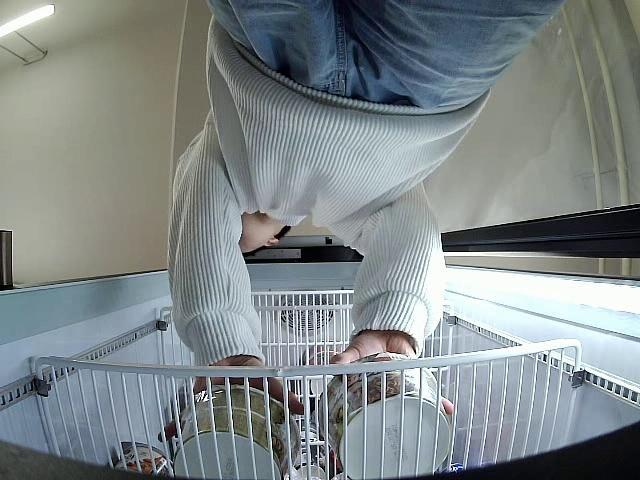03_chapagetti_L: (320, 352, 451, 480), (172, 389, 302, 480)
